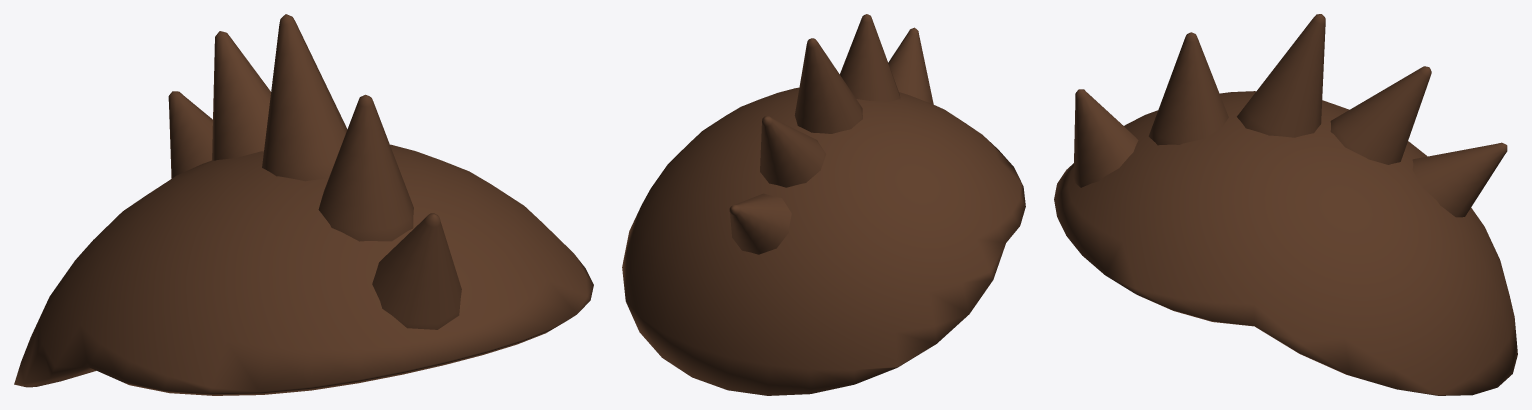
Rendered from hair_mohawk.glb.
The picture shows the model from 3 angles, left to right: view 1: azimuth 30°, elevation 25°; view 2: azimuth 150°, elevation 25°; view 3: azimuth 270°, elevation 25°; orthographic projection. The views are drawn at different scales.
Parts seen in each view (by area): view 1: hair_mohawk; view 2: hair_mohawk; view 3: hair_mohawk.
Boxes of the visible parts, bbox=[...] form: hair_mohawk: bbox=[14, 14, 593, 395]; hair_mohawk: bbox=[622, 14, 1025, 395]; hair_mohawk: bbox=[1054, 14, 1517, 395].
Size of the model in its own units: 0.5488 by 0.4401 by 0.5422.
